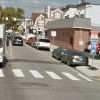crosswalk: (0, 67, 93, 82)
